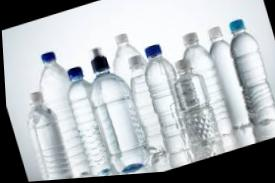plastic: (73, 36, 154, 178), (25, 42, 104, 181), (101, 23, 179, 158), (169, 24, 238, 146), (133, 36, 199, 159), (56, 60, 120, 179), (118, 47, 180, 161), (198, 19, 258, 135), (219, 12, 275, 130), (16, 84, 78, 182), (164, 52, 224, 151)
